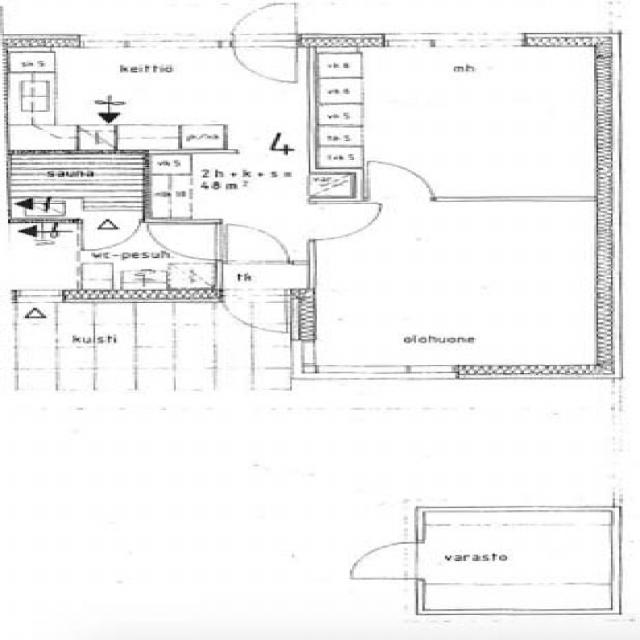door: (231, 33, 297, 82), (231, 0, 297, 47), (349, 542, 423, 579), (368, 161, 434, 202), (227, 290, 287, 335), (308, 204, 383, 240), (152, 225, 224, 259), (227, 227, 288, 264), (84, 218, 134, 251)
